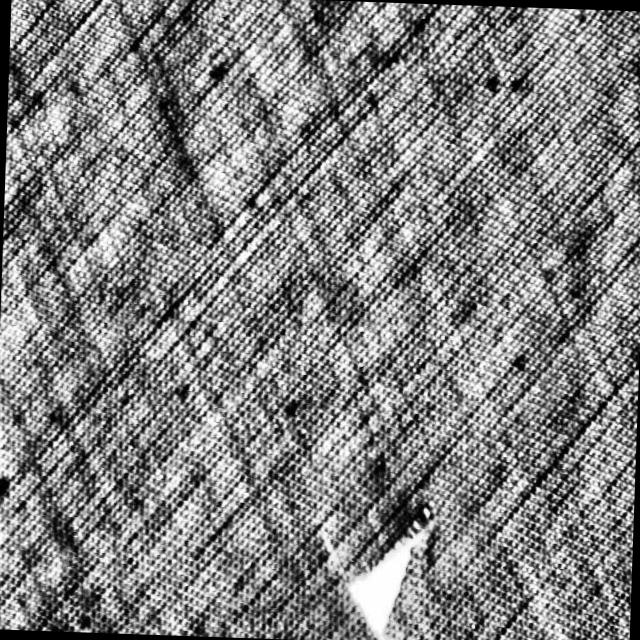cut: (339, 515, 436, 640)
